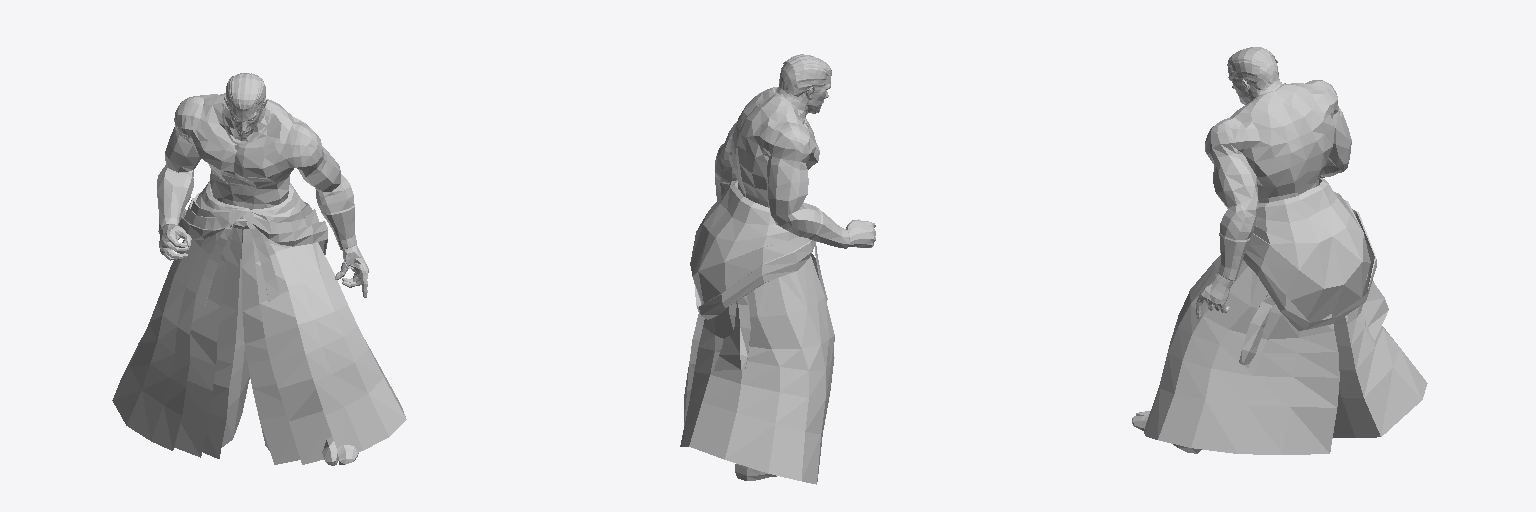
File: geese_walk_000009.obj
3 renders of one model, left to right at view 1: azimuth 30°, elevation 25°; view 2: azimuth 150°, elevation 25°; view 3: azimuth 270°, elevation 25°, orthographic.
Parts seen in each view (by area): view 1: GamemodelShape1.003, hairShape.001; view 2: GamemodelShape1.003, hairShape.001; view 3: GamemodelShape1.003, hairShape.001.
Part boxes in pixels (x1,y1,x2,y2): GamemodelShape1.003: (112,93,406,465); hairShape.001: (226,73,265,111); GamemodelShape1.003: (680,76,875,484); hairShape.001: (777,54,831,99); GamemodelShape1.003: (1132,68,1427,454); hairShape.001: (1227,47,1281,90).
Size of the model in its own units: 2.65 by 4.88 by 3.34.